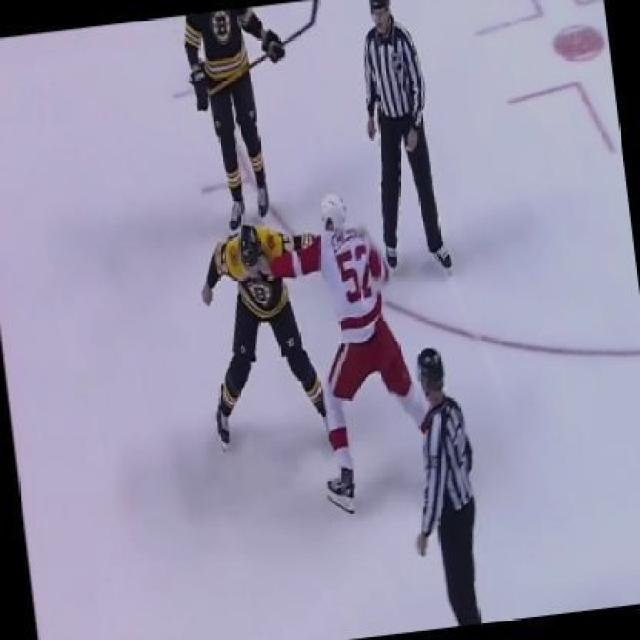fight: (200, 188, 435, 514)
non-fight: (390, 340, 504, 635), (340, 0, 458, 277)
